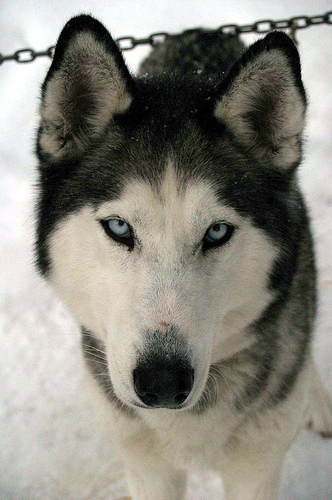dog: (17, 10, 309, 498)
